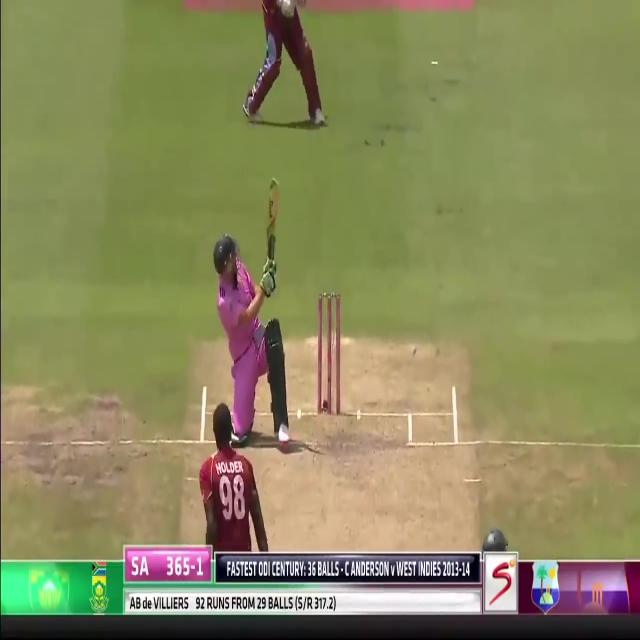Ball: (210, 235, 289, 443)
Fielder: (245, 0, 328, 128)
